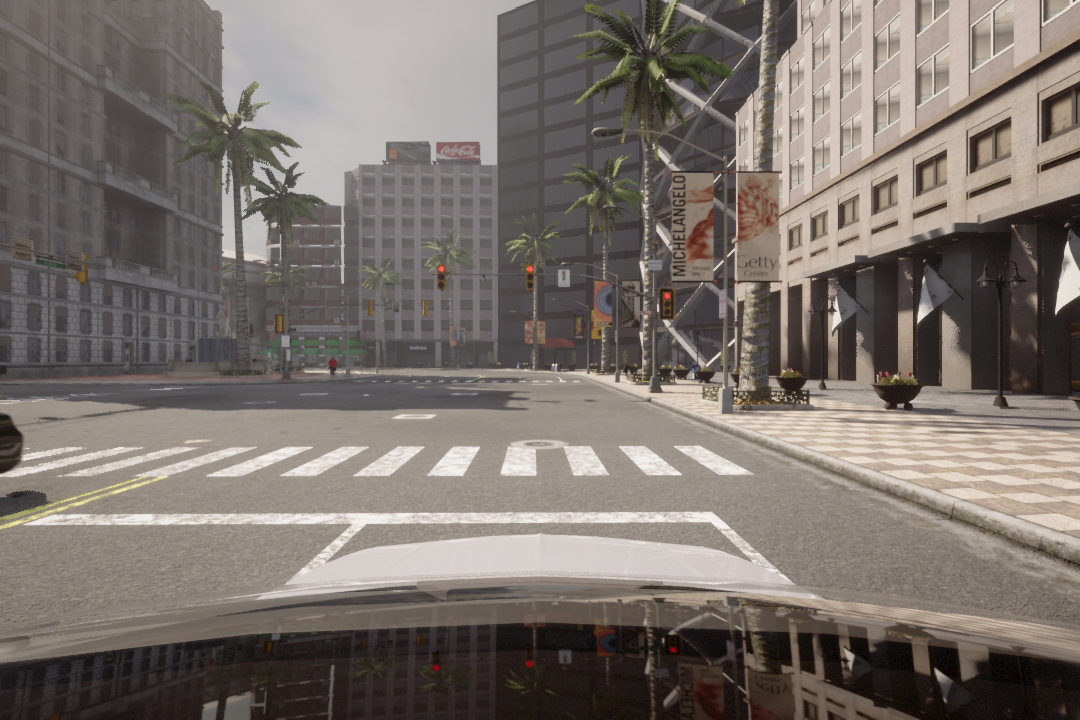TrafficLight: (657, 286, 674, 322), (435, 265, 447, 292), (524, 265, 535, 294)
walkside: (1, 440, 750, 485)
